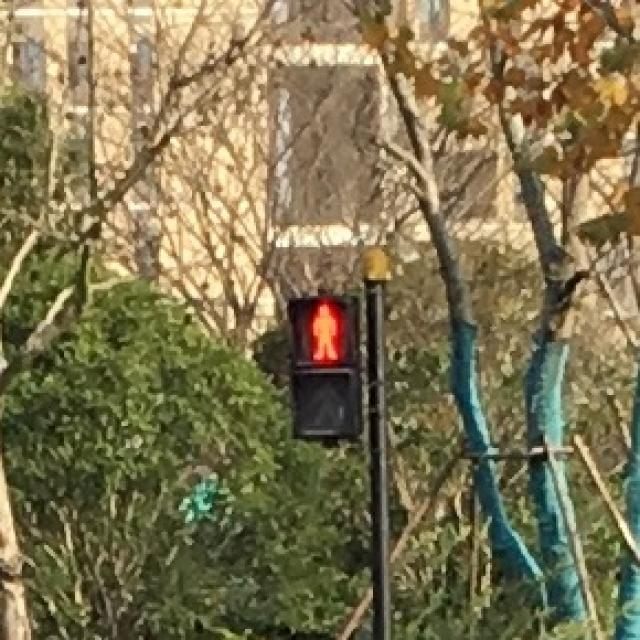red-crossing: (291, 294, 353, 366)
